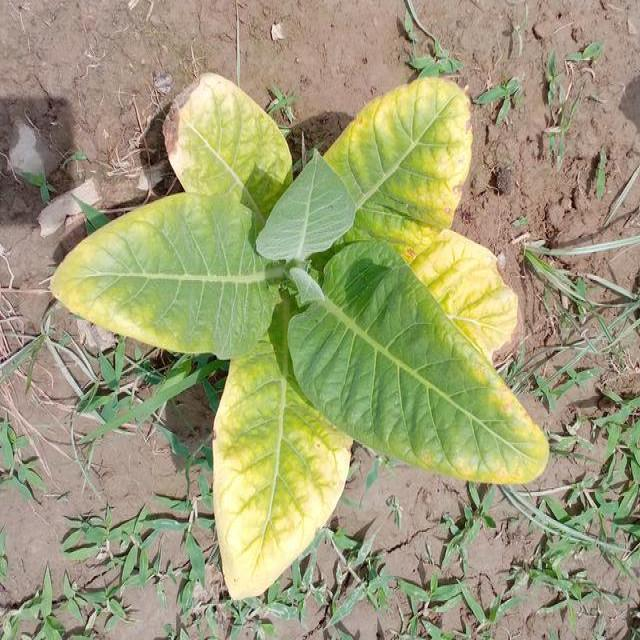crop: (56, 71, 552, 599)
